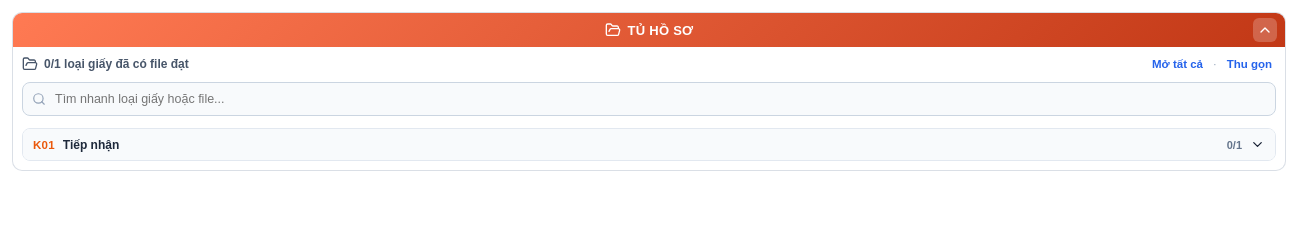
Test: DocumentCabinet › mở thẳng cây Node → loại giấy, không còn ngăn nguyên bản hoặc UI xin miễn
Click the button "K01 Tiếp nhận 0/1". click: [91, 144]
box: 23,129 -> 1275,160
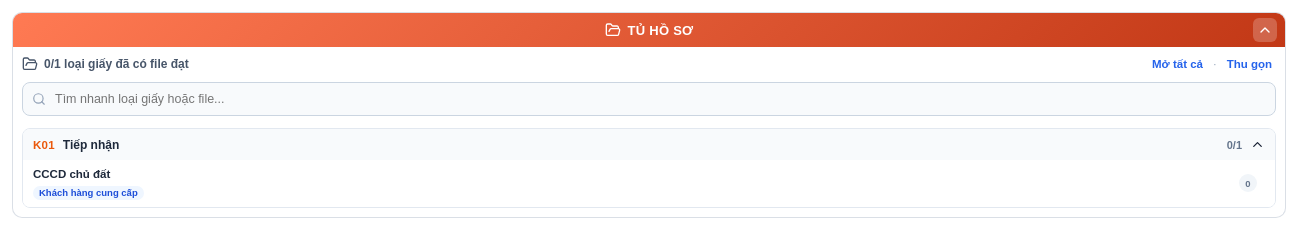
Expected: the text "CCCD chủ đất" is shown, 33,168 -> 110,180
